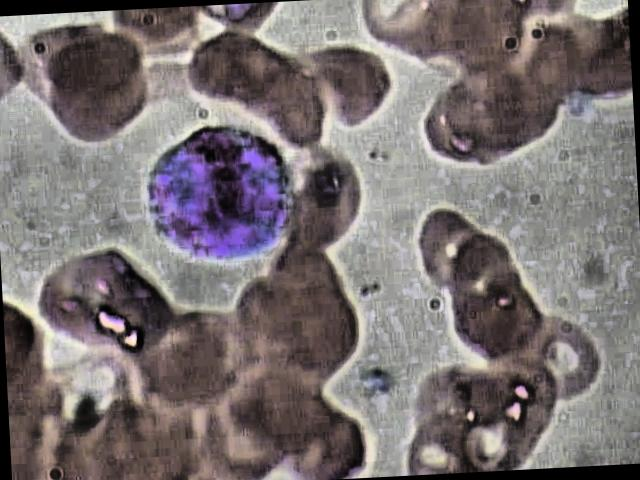Platelets: (364, 359, 398, 398)
RBC: (32, 23, 160, 152), (282, 153, 374, 260), (508, 313, 607, 407), (304, 40, 398, 136), (402, 202, 495, 298)
WBC: (134, 118, 302, 270)
